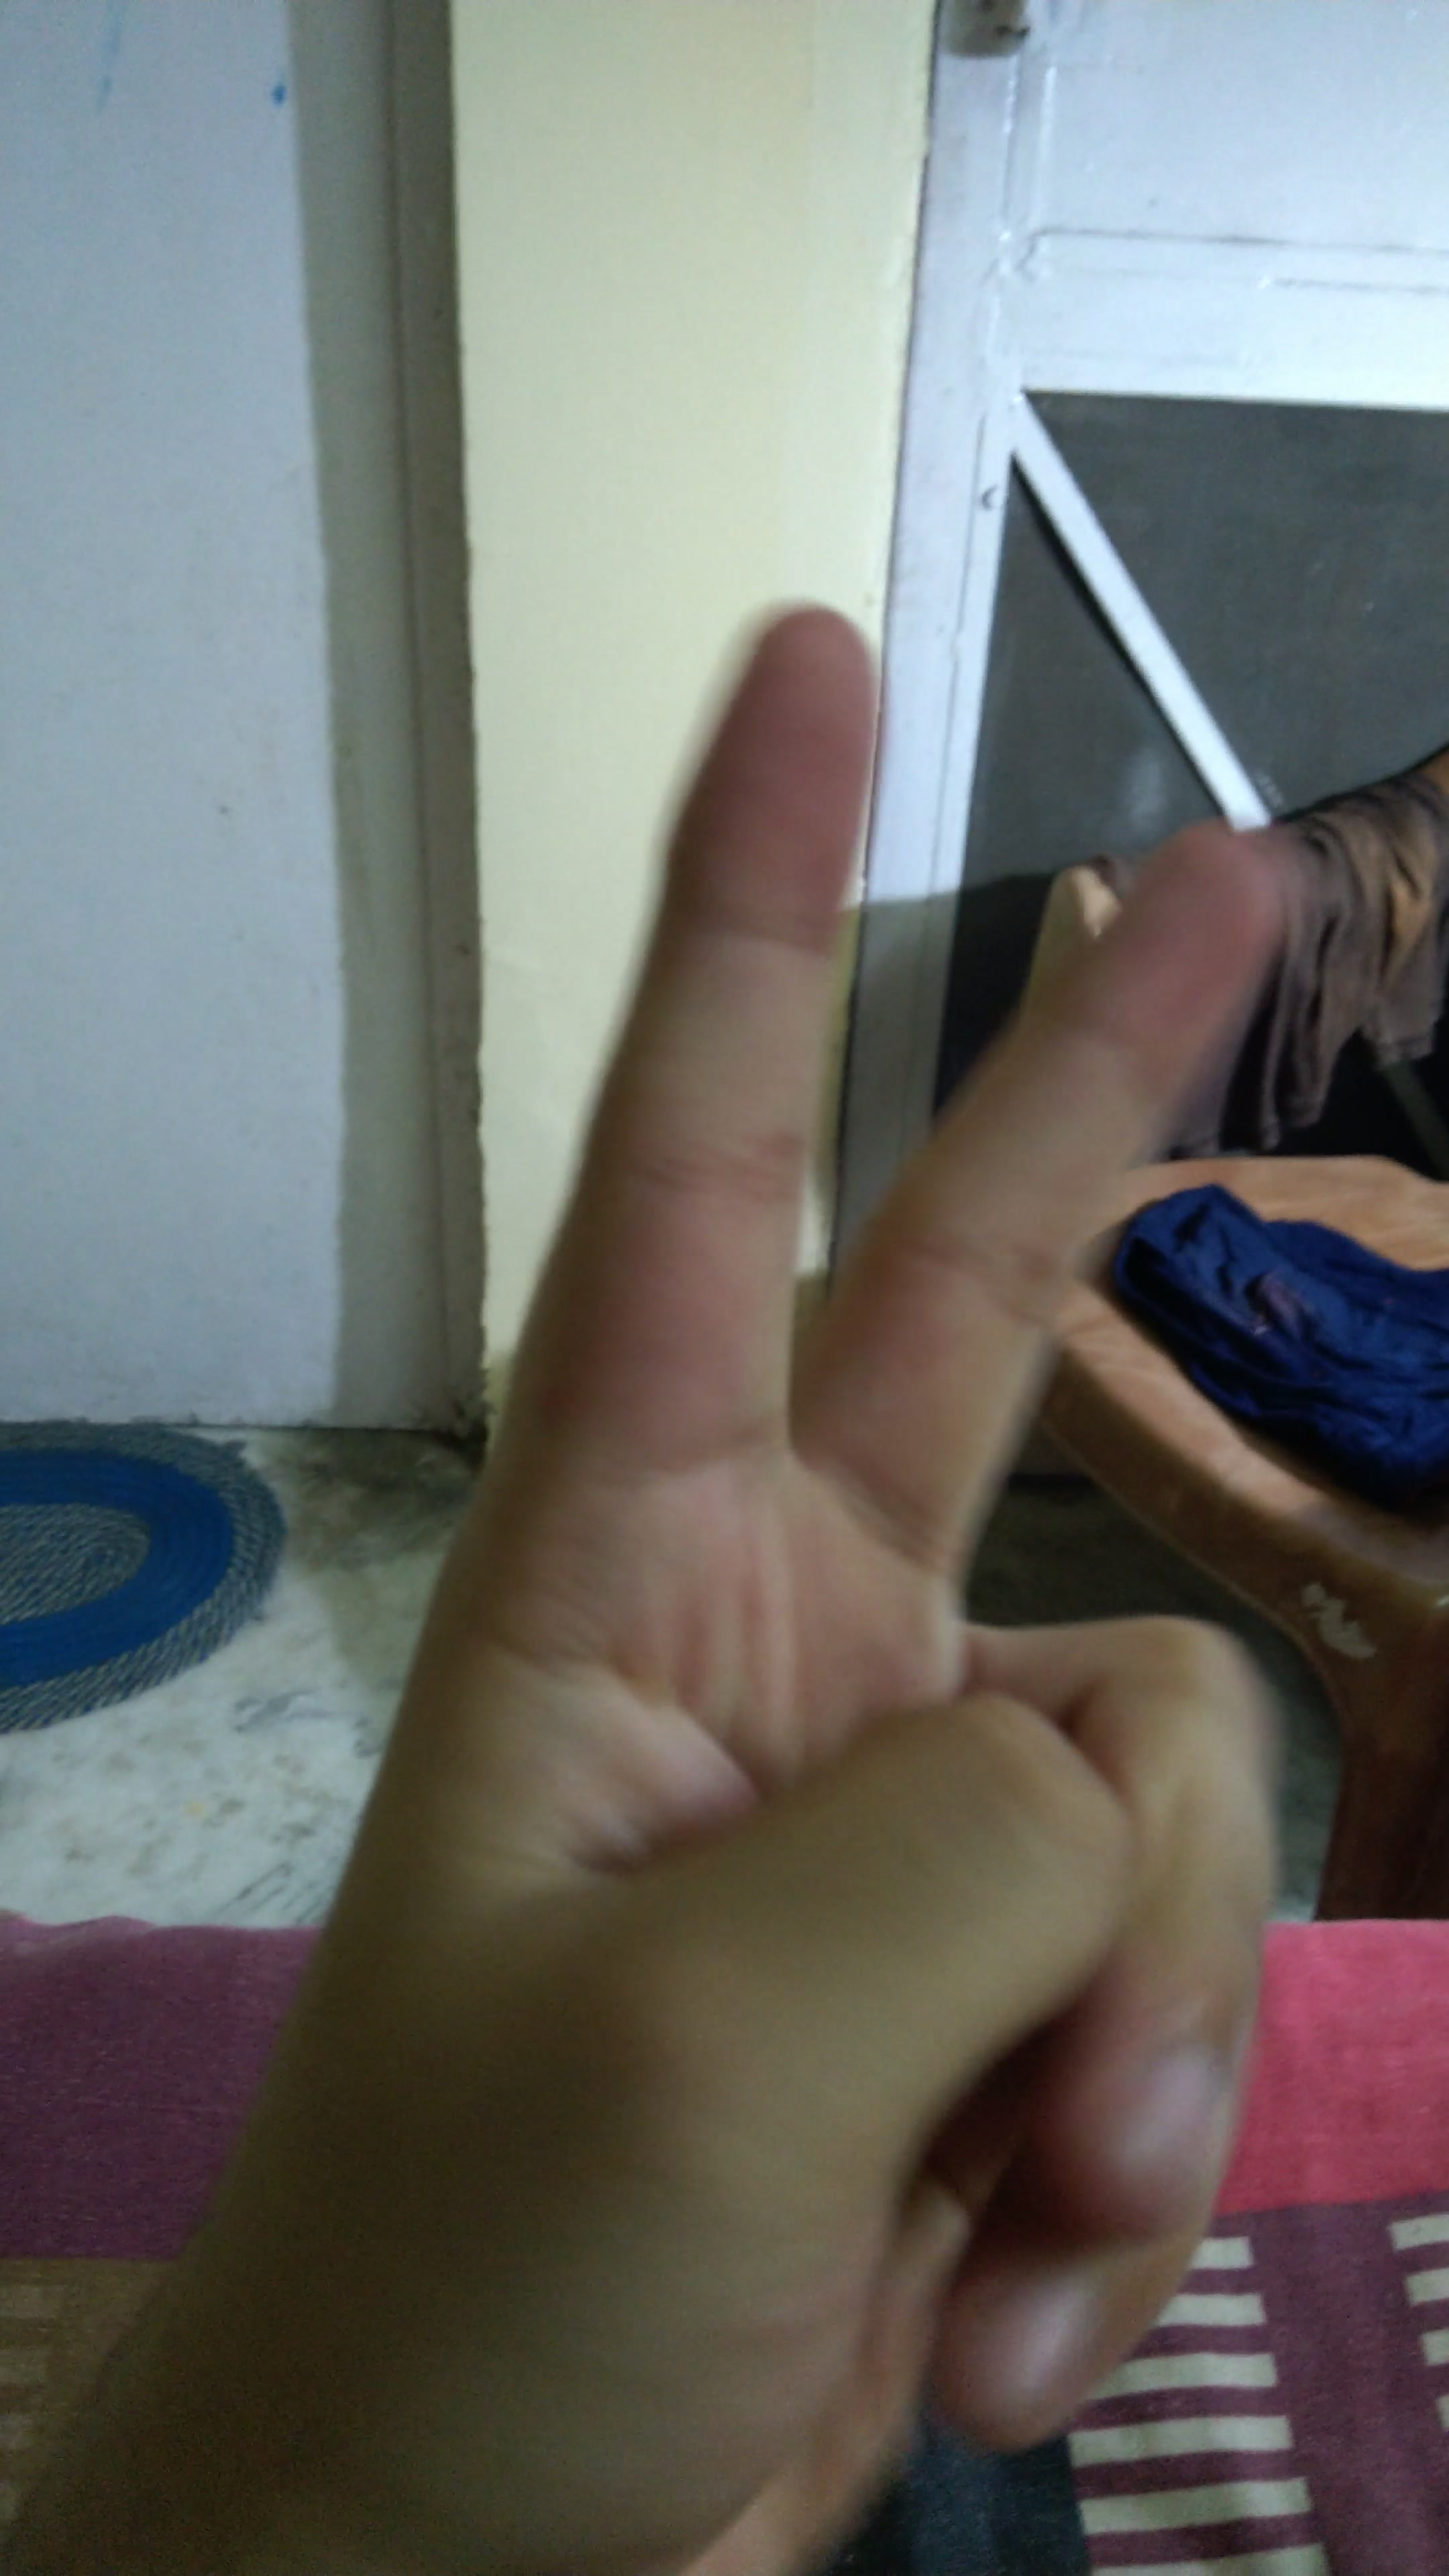hand: (191, 561, 1336, 2495)
